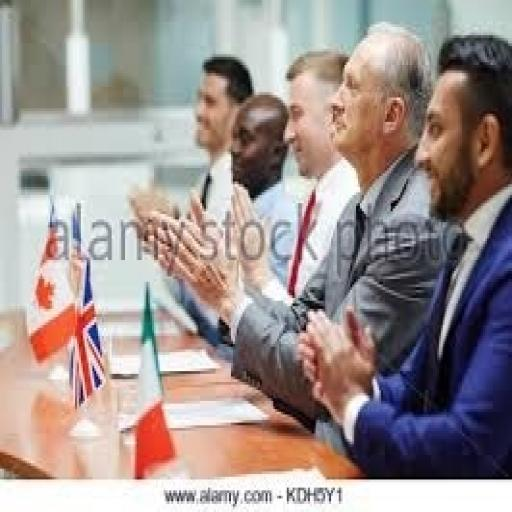clapping: (152, 12, 435, 439), (296, 30, 510, 479), (90, 14, 318, 304)
